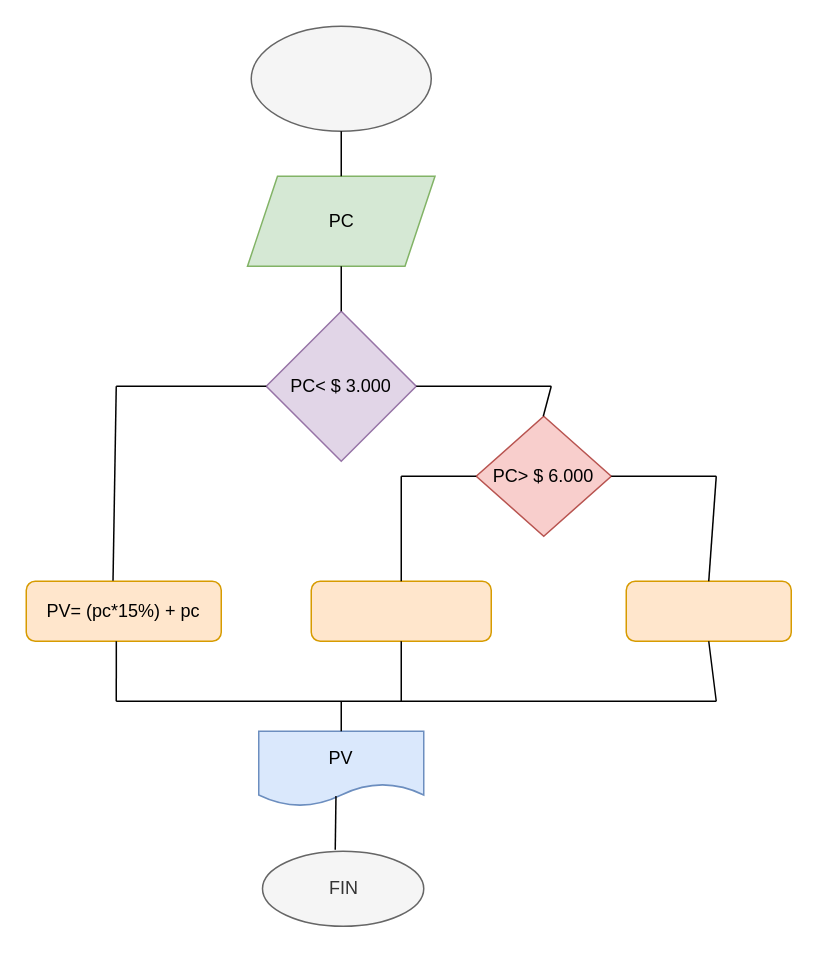
Image size: 818x953. Some labels were removed from this diagram. Each missing label, with the centre of its shape:
"INICIO" belongs at [340,78].
"PV= ( pc*25%) + pc" belongs at [400,610].
"PV= pc + 500" belongs at [708,610].
